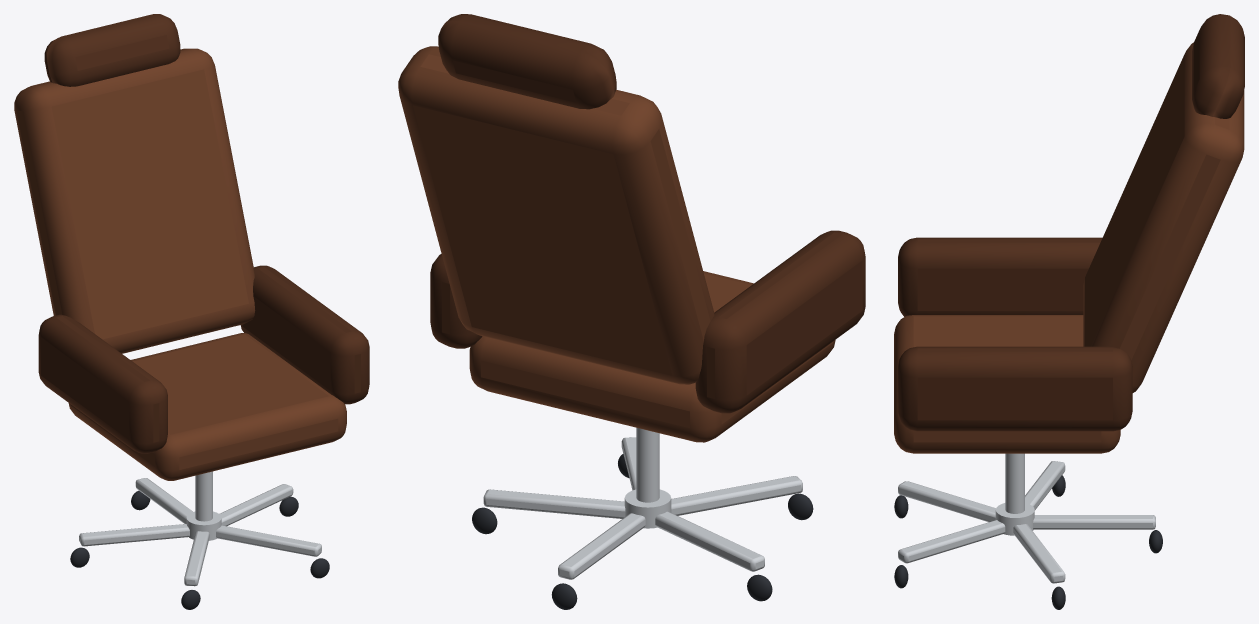
The model's file is chair_recliner.fbx.
3 renders of one model, left to right at view 1: azimuth 30°, elevation 25°; view 2: azimuth 150°, elevation 25°; view 3: azimuth 270°, elevation 25°, orthographic. The views are drawn at different scales.
Parts seen in each view (by area): view 1: ChairRecliner; view 2: ChairRecliner; view 3: ChairRecliner.
Part boxes in pixels (x1=…): ChairRecliner: x1=14, y1=14, x2=369, y2=609; ChairRecliner: x1=398, y1=14, x2=865, y2=609; ChairRecliner: x1=894, y1=14, x2=1244, y2=609.
Size of the model in its own units: 0.78 by 1.44 by 0.8975.
